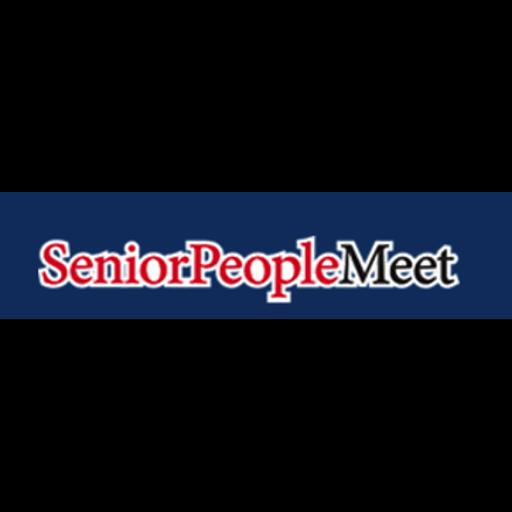Senior People Meet: (0, 192, 512, 319)
